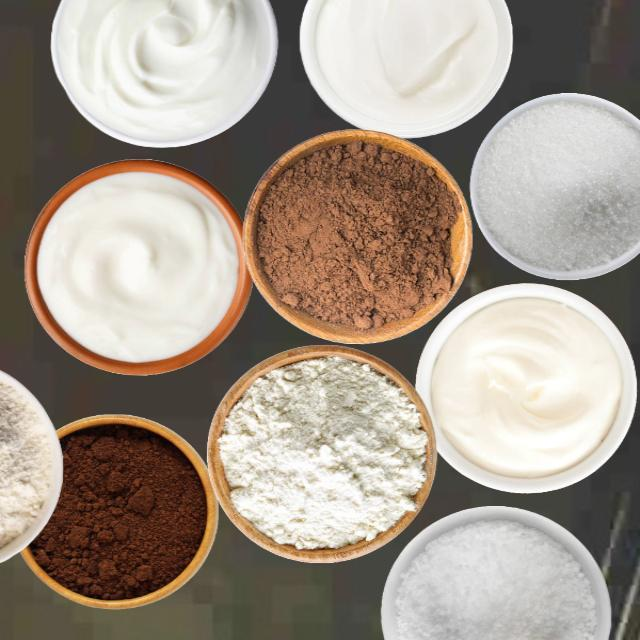Cocoa: (254, 139, 458, 330)
Coffee: (26, 422, 207, 602)
Flour: (216, 354, 428, 550)
Sugar: (475, 99, 639, 271), (394, 519, 596, 639)
